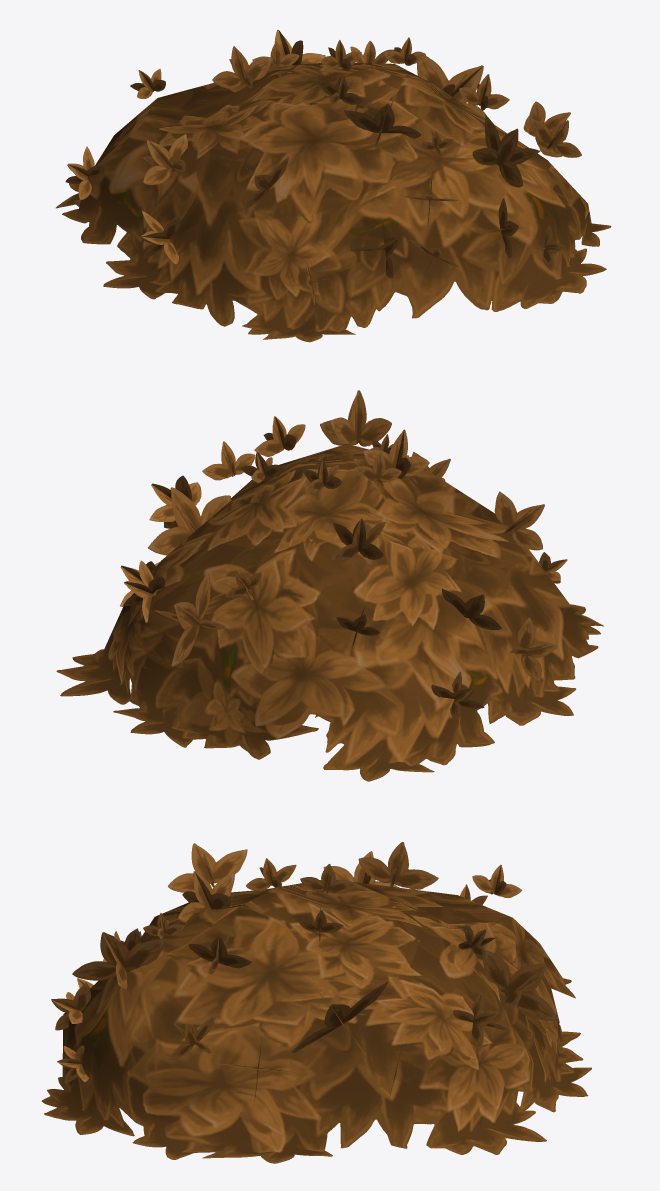
Rendered from 1_Arbusto_Cafe.fbx.
The picture shows the model from 3 angles, top to bottom: view 1: azimuth 30°, elevation 25°; view 2: azimuth 150°, elevation 25°; view 3: azimuth 270°, elevation 25°; orthographic projection. The views are drawn at different scales.
Visible parts, largest first — view 1: 1_Arbusto_Cafe; view 2: 1_Arbusto_Cafe; view 3: 1_Arbusto_Cafe.
Boxes of the visible parts, bbox=[...] form: 1_Arbusto_Cafe: bbox=[56, 30, 611, 342]; 1_Arbusto_Cafe: bbox=[56, 390, 603, 781]; 1_Arbusto_Cafe: bbox=[41, 842, 591, 1163].
Size of the model in its own units: 451 by 175 by 476.
